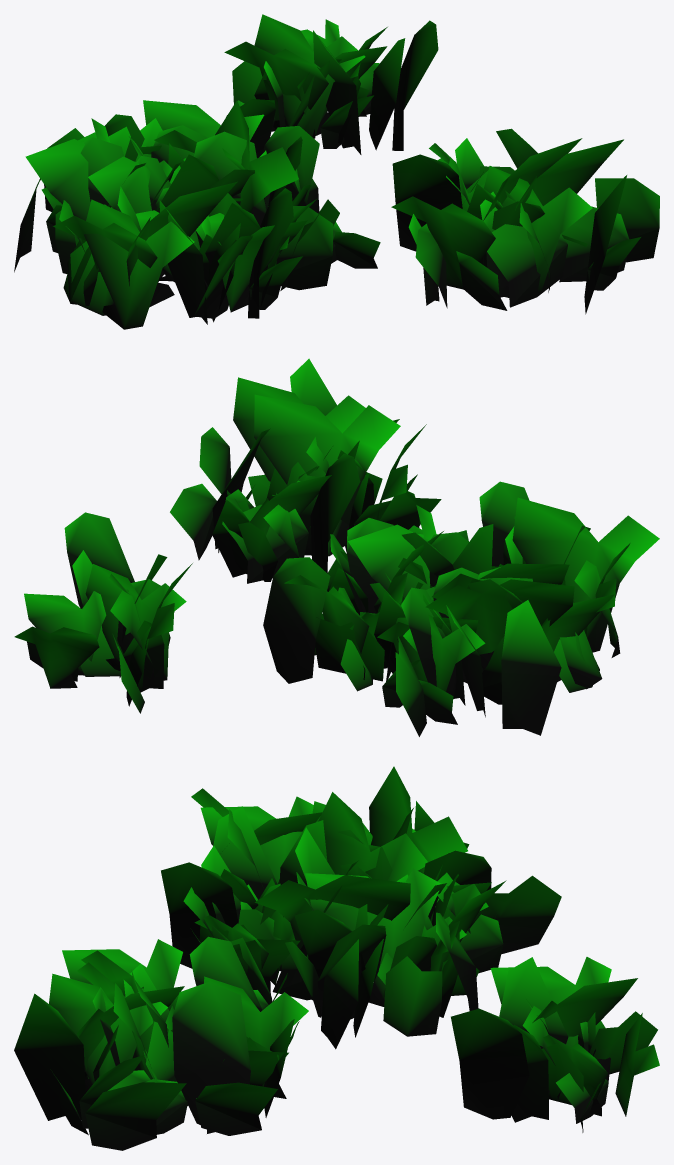
Rendered from grass_patch.glb.
The picture shows the model from 3 angles, top to bottom: view 1: azimuth 30°, elevation 25°; view 2: azimuth 150°, elevation 25°; view 3: azimuth 270°, elevation 25°; orthographic projection. The views are drawn at different scales.
Visible parts, largest first — view 1: grass_patch-convcol; view 2: grass_patch-convcol; view 3: grass_patch-convcol.
Boxes of the visible parts, x1,y1,x2,y2 form: grass_patch-convcol: (14, 14, 659, 329); grass_patch-convcol: (14, 358, 659, 736); grass_patch-convcol: (14, 766, 659, 1150).
Size of the model in its own units: 2.07 by 0.55 by 2.15.
